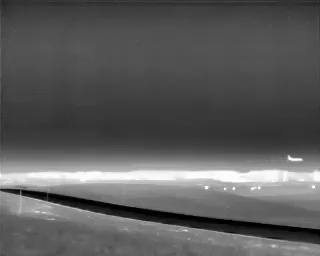AIRPLANE: (285, 153, 305, 165)
